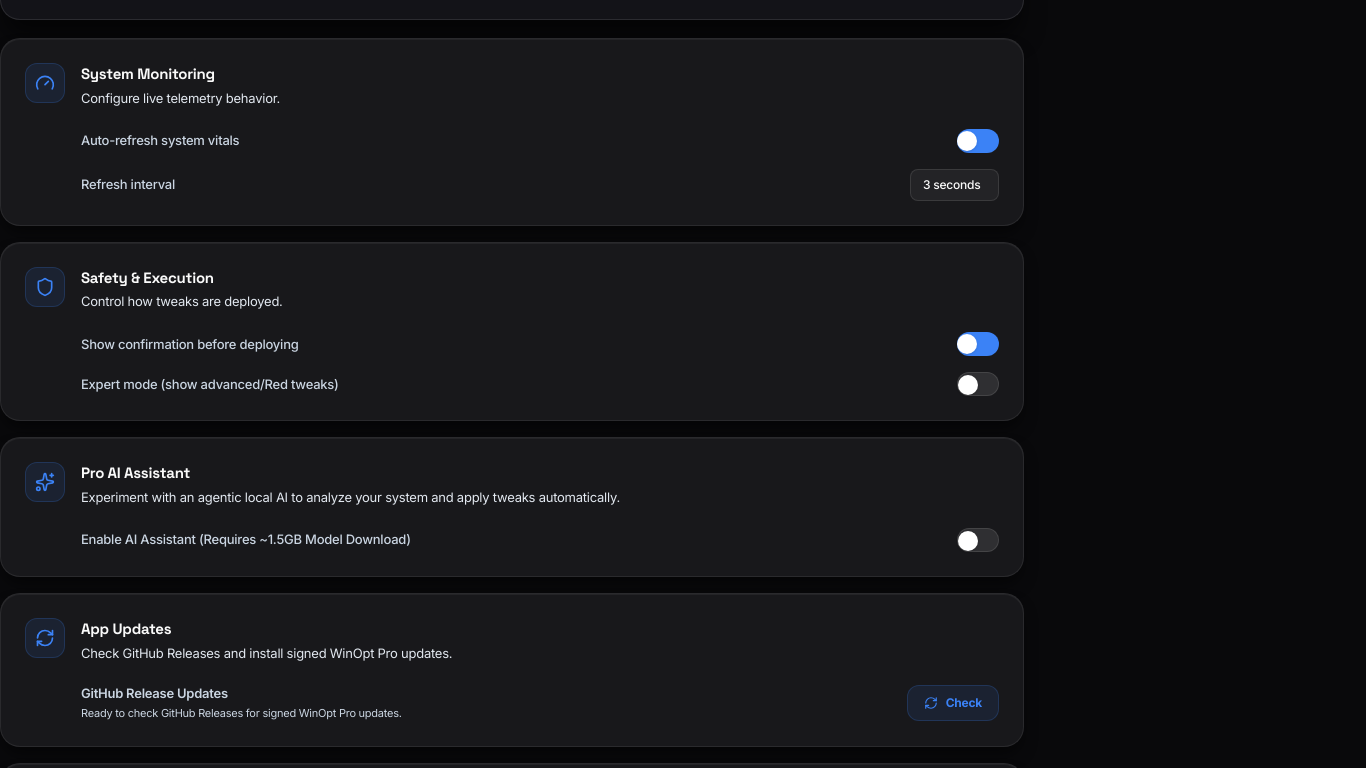
Test case: SettingsPage › I Understand enables expert mode and closes modal
(page scrolled)
Click the button named "expert mode" in the row of "Expert mode (show advanced/Red tweaks)": (978, 384) [957,372,999,396]
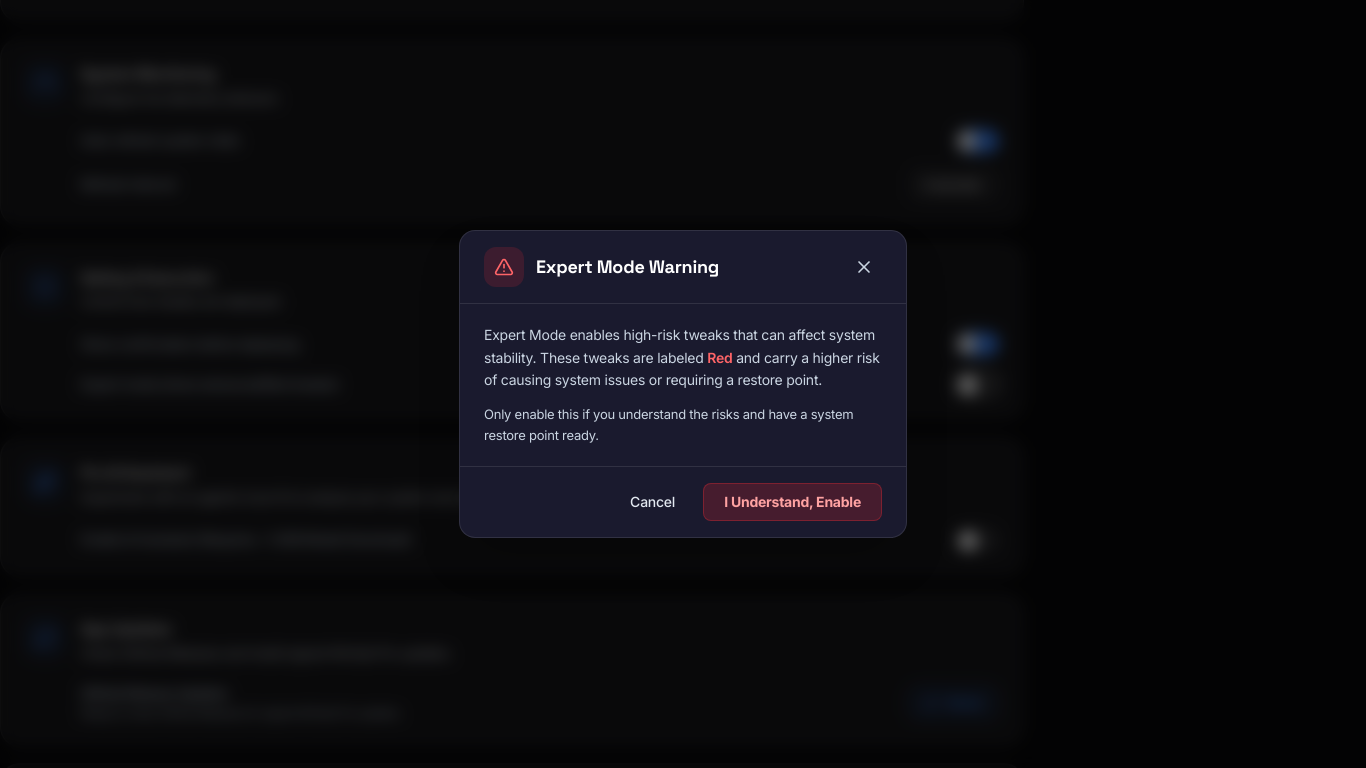
Check: the heading "Expert Mode Warning" is shown, box [536,253,719,281]
Click the button "I Understand, Enable": (793, 502) [703,483,882,521]
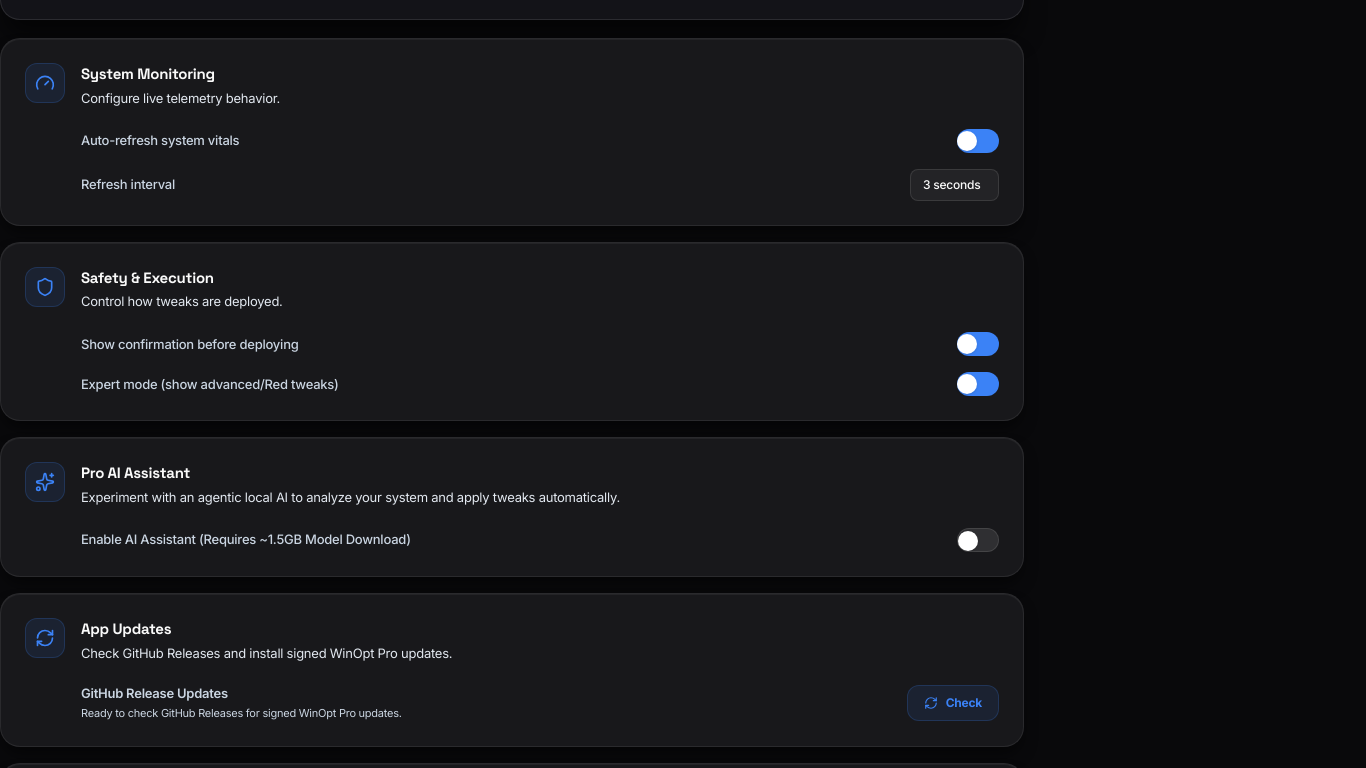
Check: the heading "Expert Mode Warning" is gone
